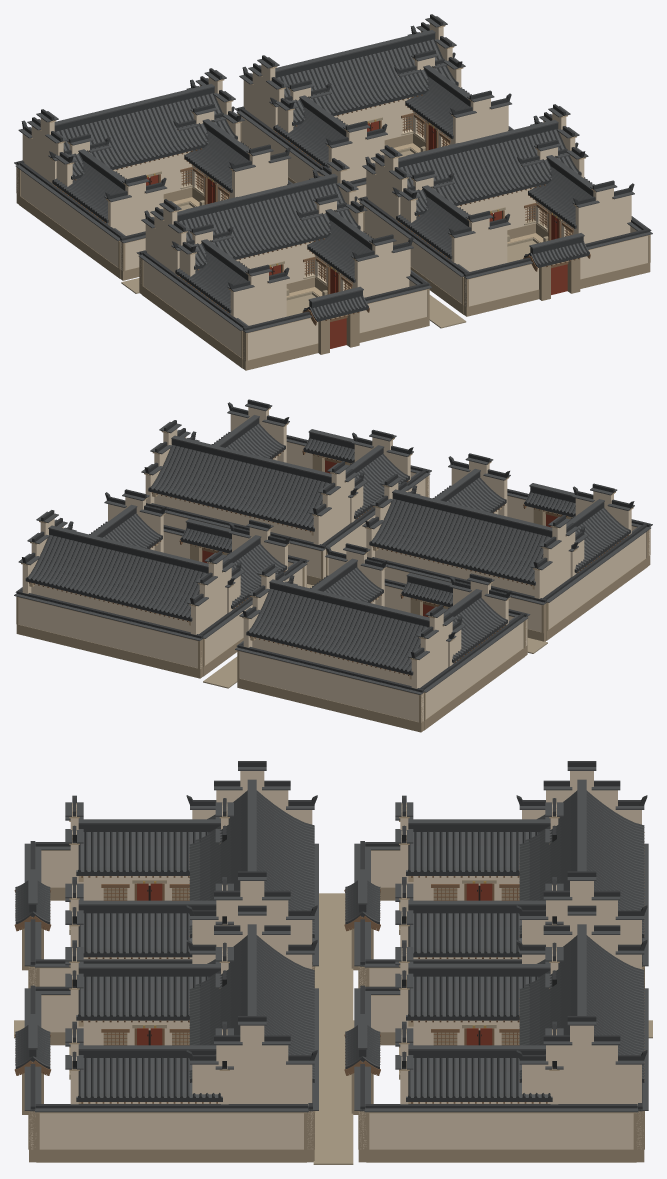
3 views of the same model, one above another, from view 1: azimuth 30°, elevation 25°; view 2: azimuth 150°, elevation 25°; view 3: azimuth 270°, elevation 25° (orthographic). The views are drawn at different scales.
Parts seen in each view (by area): view 1: K07a; view 2: K07a; view 3: K07a.
Part boxes in pixels (x1,y1,x2,y2): K07a: (14, 14, 652, 370); K07a: (14, 399, 652, 732); K07a: (14, 761, 652, 1164).
Size of the model in its own units: 40.5 by 9.85 by 40.5.
